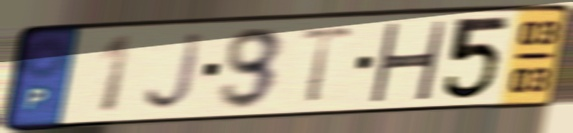1: (96, 31, 135, 118)
5: (439, 13, 517, 103)
9: (215, 24, 289, 113)
H: (365, 20, 450, 102)
J: (140, 29, 208, 114)
T: (295, 23, 360, 106)
